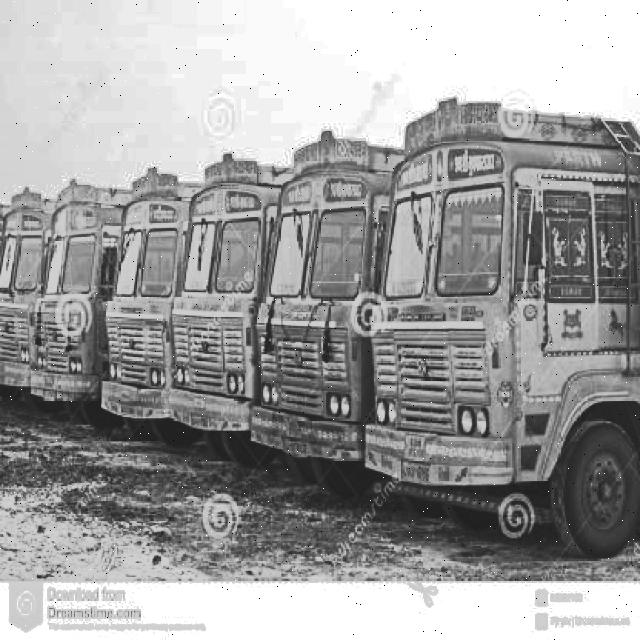HCV: (383, 142, 639, 570), (171, 140, 314, 458), (271, 140, 385, 481), (28, 185, 150, 397), (118, 189, 214, 426)
